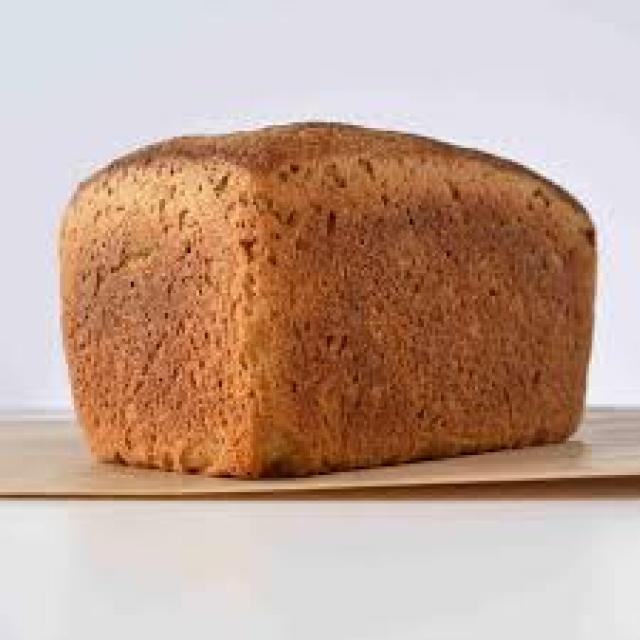bread: (58, 120, 598, 479)
